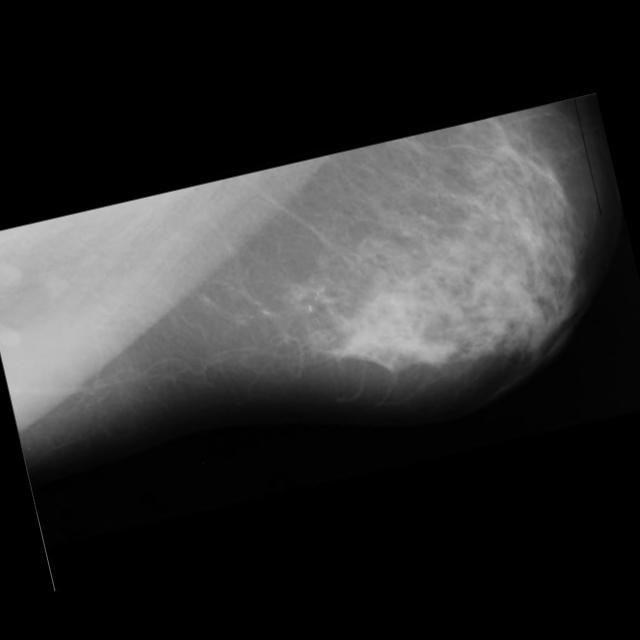CALC: (282, 264, 354, 336)
